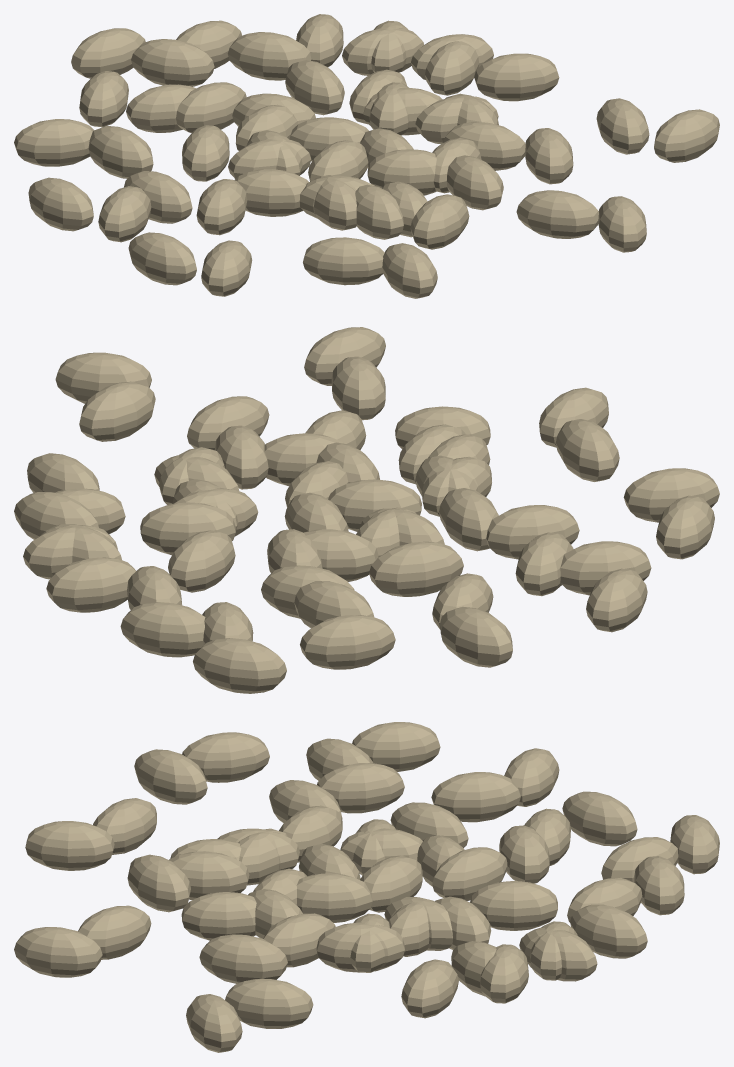
The model's file is Dust.fbx.
3 views of the same model, one above another, from view 1: azimuth 30°, elevation 25°; view 2: azimuth 150°, elevation 25°; view 3: azimuth 270°, elevation 25° (orthographic). The views are drawn at different scales.
Parts seen in each view (by area): view 1: pSphere53; view 2: pSphere53; view 3: pSphere53.
Part boxes in pixels (x1=…): pSphere53: x1=14, y1=14, x2=719, y2=298; pSphere53: x1=14, y1=327, x2=719, y2=693; pSphere53: x1=14, y1=722, x2=719, y2=1052.
Size of the model in its own units: 1.01 by 0.0704 by 0.9821.
